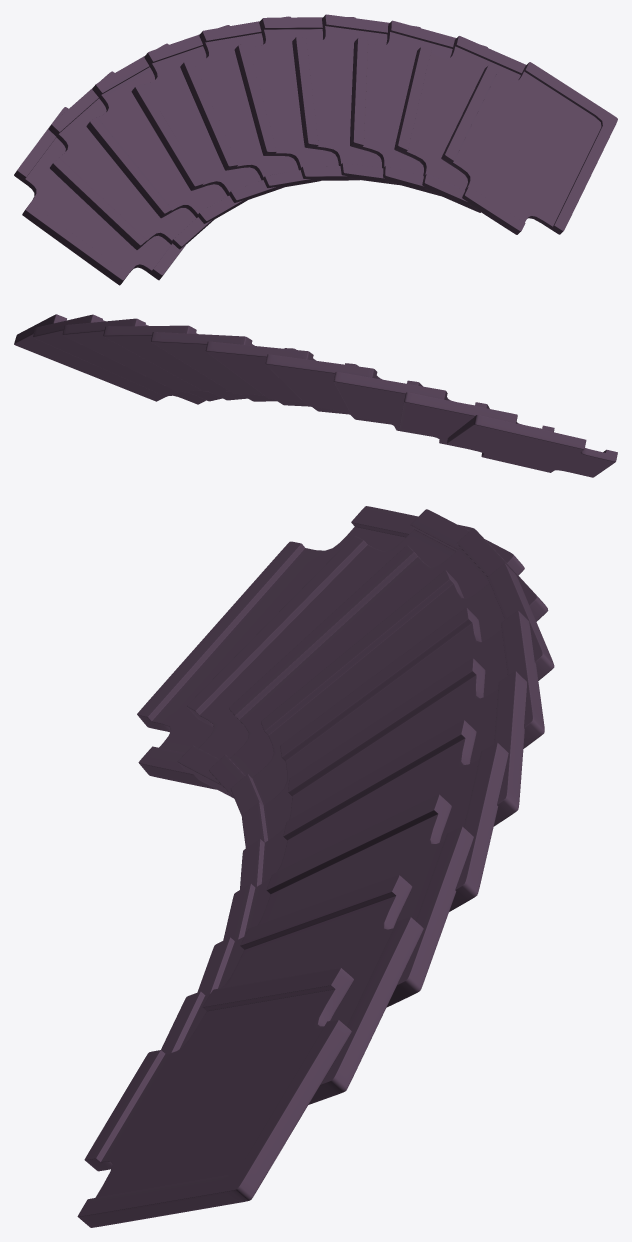
Rendered from CardInHand.fbx.
3 views of the same model, one above another, from view 1: azimuth 30°, elevation 25°; view 2: azimuth 150°, elevation 25°; view 3: azimuth 270°, elevation 25° (orthographic). The views are drawn at different scales.
Visible parts, largest first — view 1: pCube1, pCube22, pCube20, pCube16, pCube21, pCube15, pCube19, pCube18, pCube14, pCube17; view 2: pCube14, pCube16, pCube17, pCube18, pCube15, pCube19, pCube21, pCube20, pCube22, pCube1; view 3: pCube1, pCube22, pCube21, pCube20, pCube19, pCube18, pCube17, pCube15, pCube16, pCube14.
Boxes of the visible parts, left/top/right/bottom form: pCube1: left=441, top=62, right=617, bottom=234; pCube22: left=394, top=36, right=525, bottom=212; pCube20: left=292, top=14, right=420, bottom=184; pCube16: left=86, top=43, right=247, bottom=223; pCube21: left=350, top=20, right=487, bottom=195; pCube15: left=48, top=71, right=213, bottom=249; pCube19: left=234, top=17, right=359, bottom=180; pCube18: left=180, top=16, right=320, bottom=188; pCube14: left=14, top=107, right=186, bottom=285; pCube17: left=131, top=25, right=283, bottom=202; pCube14: left=447, top=415, right=617, bottom=477; pCube16: left=333, top=372, right=489, bottom=436; pCube17: left=265, top=354, right=422, bottom=424; pCube18: left=205, top=341, right=358, bottom=414; pCube15: left=399, top=392, right=554, bottom=447; pCube19: left=151, top=332, right=308, bottom=406; pCube21: left=62, top=318, right=247, bottom=400; pCube20: left=103, top=325, right=276, bottom=401; pCube22: left=33, top=314, right=222, bottom=401; pCube1: left=14, top=314, right=205, bottom=404; pCube1: left=77, top=967, right=353, bottom=1227; pCube22: left=161, top=875, right=423, bottom=1104; pCube21: left=197, top=794, right=473, bottom=1007; pCube20: left=223, top=720, right=508, bottom=940; pCube19: left=240, top=658, right=526, bottom=889; pCube18: left=241, top=608, right=544, bottom=847; pCube17: left=231, top=563, right=554, bottom=815; pCube15: left=177, top=509, right=524, bottom=797; pCube16: left=209, top=528, right=548, bottom=798; pCube14: left=137, top=506, right=473, bottom=789.
Bounding box in the file's own units: 6.21 × 1.91 × 2.21.
